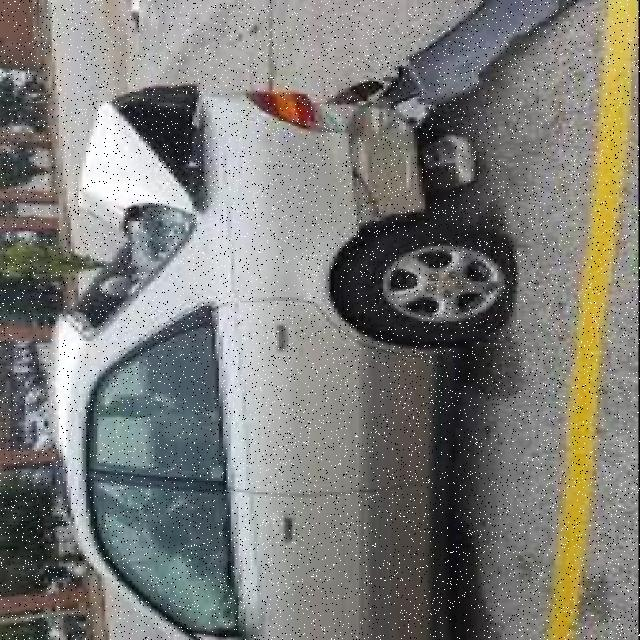damage: (63, 0, 567, 342)
